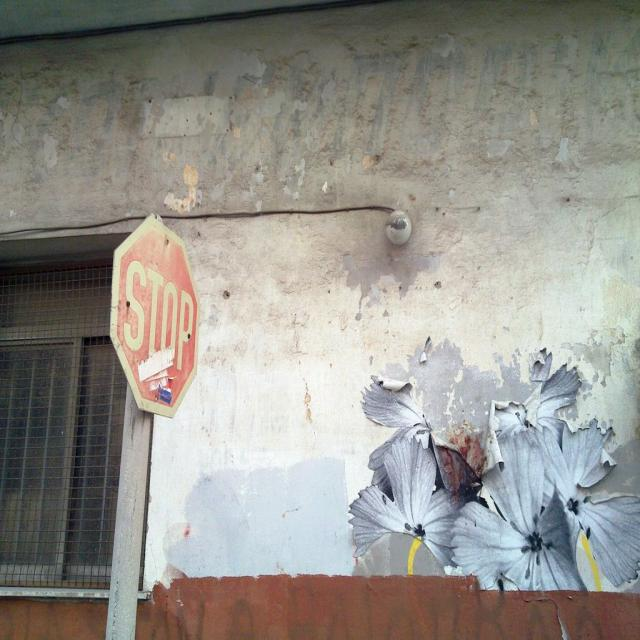Stop-sign: (109, 214, 202, 420)
